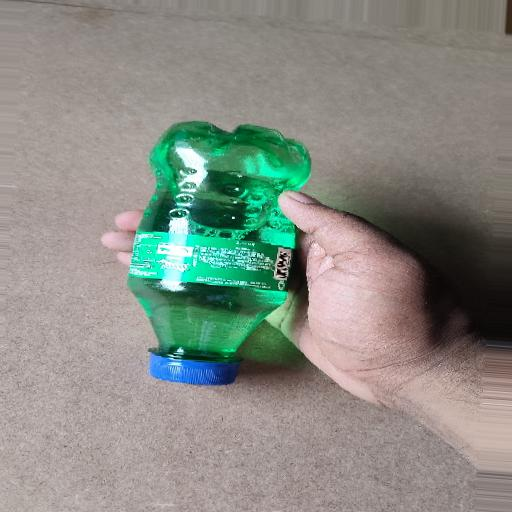Sprite: (117, 94, 334, 417)
